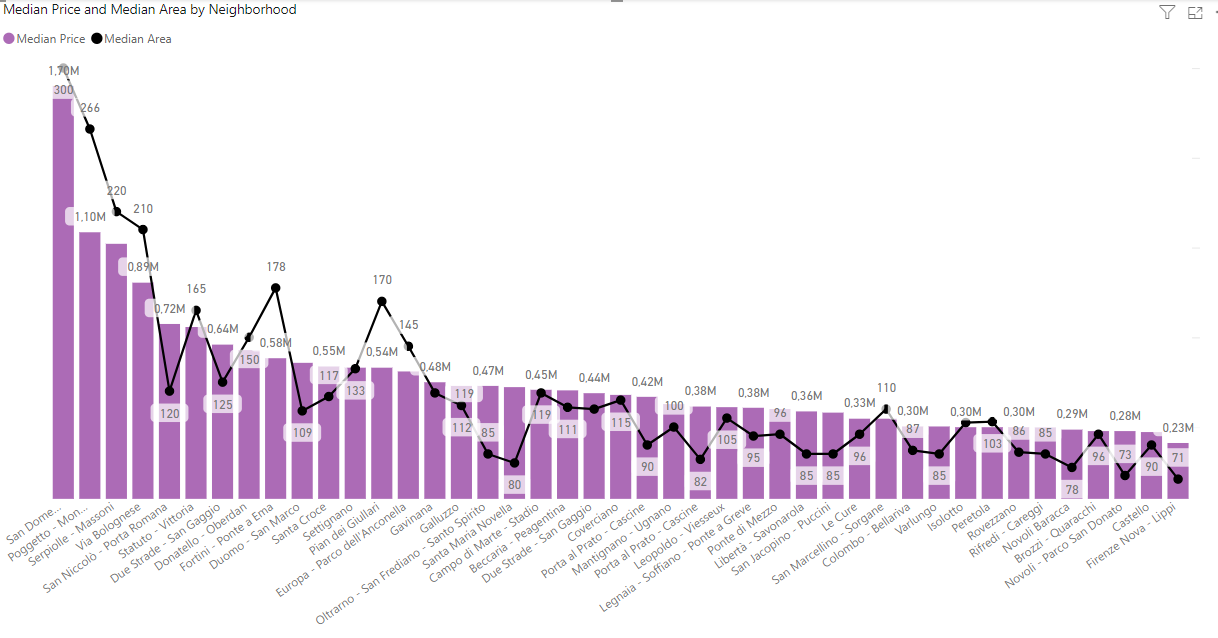

The dashboard page shown, as its layout file describes it:
{"tool":"powerbi","page":{"name":"Median Price by Neighborhood","canvas":[1280,720],"ordinal":4},"visuals":[{"type":"lineClusteredColumnComboChart","fields":{"Category":["Firenze Idealista.Neighborhood"],"Y":["Firenze Idealista.Median Price"],"Y2":["Firenze Idealista.Median Area"]},"box":[9.7,0,1099.1,572.9],"z":0},{"type":"card","fields":{"Values":["Firenze Idealista.Median Area"]},"box":[1119,0,161.4,134.8],"z":1000}]}

Visuals, with their boxes on the page's 1280x720 design canvas (x1, y1, x2, y2). These are canvas units, not pixel positions in the 1218x638 screenshot, which may show the page scaled, cropped or inside an application window:
lineClusteredColumnComboChart - Firenze Idealista.Neighborhood x Firenze Idealista.Median Price: 10, 0, 1109, 573
card - Firenze Idealista.Median Area: 1119, 0, 1280, 135
